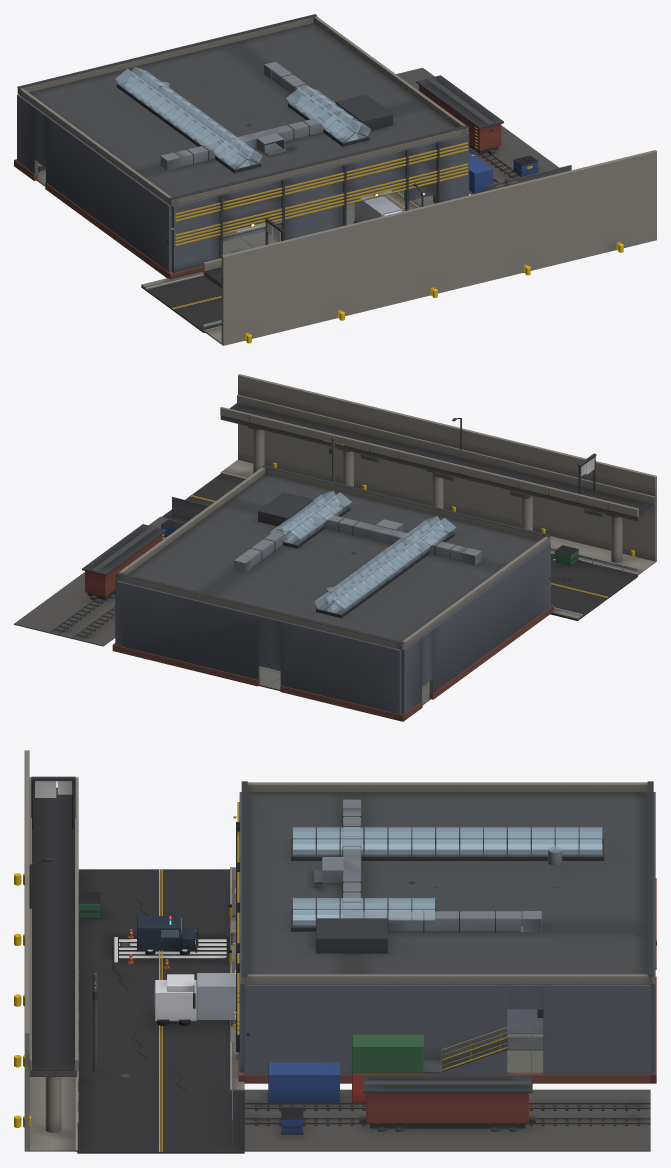
Rendered from hd_assault.glb.
3 renders of one model, top to bottom at view 1: azimuth 30°, elevation 25°; view 2: azimuth 150°, elevation 25°; view 3: azimuth 270°, elevation 25°, orthographic. The views are drawn at different scales.
Parts seen in each view (by area): view 1: Batch_034_02_Highway_Overpass_Mat_Assault_Concrete, Batch_017_01_Architecture_Mat_Assault_Warehouse_Roof, Batch_010_01_Architecture_Mat_Assault_Warehouse_Wall, Batch_003_01_Architecture_Mat_Assault_Concrete, NonCol_Batch_012_01_Architecture_Mat_Assault_Warehouse_Wall_, NonCol_Batch_011_01_Architecture_Mat_Assault_Steel_Dark, Batch_086_Mixed, Street_Asphalt, Rail_Yard_Ballast, Warehouse_Ground_Slab, Batch_041_Mat_Assault_Steel_Dark, Batch_111_09_Industrial_Props_Mat_Assault_Steel_Dark (+4 smaller); view 2: Batch_017_01_Architecture_Mat_Assault_Warehouse_Roof, Batch_034_02_Highway_Overpass_Mat_Assault_Concrete, Batch_010_01_Architecture_Mat_Assault_Warehouse_Wall, Batch_003_01_Architecture_Mat_Assault_Concrete, Batch_086_Mixed, Street_Asphalt, Rail_Yard_Ballast, NonCol_Batch_011_01_Architecture_Mat_Assault_Steel_Dark, Overpass_Asphalt, Batch_009_01_Architecture_Mat_Assault_Brick_Base, Batch_032_02_Highway_Overpass_Mat_Assault_Concrete_Dark, Batch_041_Mat_Assault_Steel_Dark (+5 smaller); view 3: Batch_017_01_Architecture_Mat_Assault_Warehouse_Roof, Street_Asphalt, Batch_010_01_Architecture_Mat_Assault_Warehouse_Wall, Rail_Yard_Ballast, Batch_003_01_Architecture_Mat_Assault_Concrete, Overpass_Asphalt, NonCol_Batch_011_01_Architecture_Mat_Assault_Steel_Dark, Batch_086_Mixed, Boxcar_Body, Batch_034_02_Highway_Overpass_Mat_Assault_Concrete, Batch_041_Mat_Assault_Steel_Dark, Batch_045_Mat_Assault_Container_Blue (+18 smaller).
Boxes of the visible parts, x1,y1,x2,y2 form: Batch_034_02_Highway_Overpass_Mat_Assault_Concrete: (203,150,656,345); Batch_017_01_Architecture_Mat_Assault_Warehouse_Roof: (29,23,456,197); Batch_010_01_Architecture_Mat_Assault_Warehouse_Wall: (17,94,469,272); Batch_003_01_Architecture_Mat_Assault_Concrete: (17,16,468,344); NonCol_Batch_012_01_Architecture_Mat_Assault_Warehouse_Wall_: (174,142,468,245); NonCol_Batch_011_01_Architecture_Mat_Assault_Steel_Dark: (17,14,516,258); Batch_086_Mixed: (159,61,350,170); Street_Asphalt: (141,276,221,332); Rail_Yard_Ballast: (396,67,558,194); Warehouse_Ground_Slab: (36,165,434,255); Batch_041_Mat_Assault_Steel_Dark: (416,75,503,153); Batch_111_09_Industrial_Props_Mat_Assault_Steel_Dark: (38,94,392,172); Batch_017_01_Architecture_Mat_Assault_Warehouse_Roof: (128,474,539,641); Batch_034_02_Highway_Overpass_Mat_Assault_Concrete: (220,374,656,562); Batch_010_01_Architecture_Mat_Assault_Warehouse_Wall: (115,542,550,714); Batch_003_01_Architecture_Mat_Assault_Concrete: (116,415,655,649); Batch_086_Mixed: (234,508,481,598); Street_Asphalt: (162,474,637,620); Rail_Yard_Ballast: (14,516,185,646); NonCol_Batch_011_01_Architecture_Mat_Assault_Steel_Dark: (115,418,596,644); Overpass_Asphalt: (229,403,654,516); Batch_009_01_Architecture_Mat_Assault_Brick_Base: (112,605,553,721); Batch_032_02_Highway_Overpass_Mat_Assault_Concrete_Dark: (220,403,655,521); Batch_041_Mat_Assault_Steel_Dark: (82,524,166,599); Batch_017_01_Architecture_Mat_Assault_Warehouse_Roof: (247,792,647,974); Street_Asphalt: (77,869,244,1153); Batch_010_01_Architecture_Mat_Assault_Warehouse_Wall: (239,792,655,1074); Rail_Yard_Ballast: (244,1089,650,1151); Batch_003_01_Architecture_Mat_Assault_Concrete: (29,782,653,1151); Overpass_Asphalt: (32,787,74,1070); NonCol_Batch_011_01_Architecture_Mat_Assault_Steel_Dark: (29,776,653,1052); Batch_086_Mixed: (322,799,562,932); Boxcar_Body: (366,1093,528,1123); Batch_034_02_Highway_Overpass_Mat_Assault_Concrete: (24,750,78,1151); Batch_041_Mat_Assault_Steel_Dark: (363,1075,532,1131); Batch_045_Mat_Assault_Container_Blue: (268,1062,339,1133).
Size of what is drawn, in the model's own units: 168 by 39.75 by 161.
